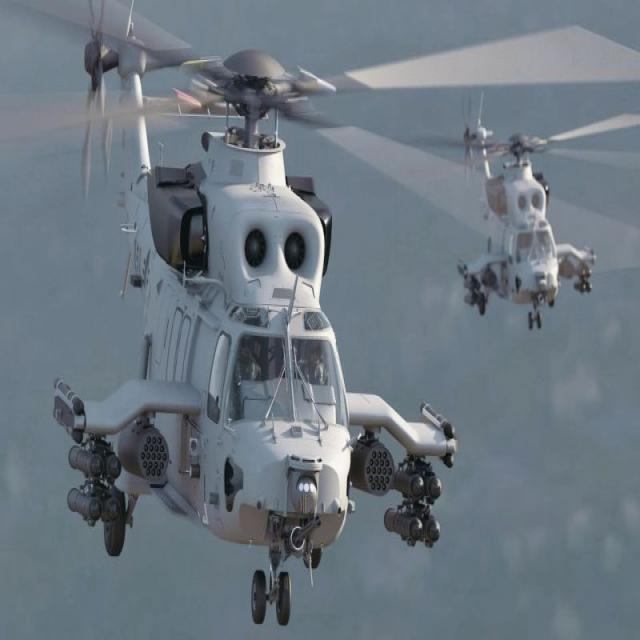plane: (0, 0, 640, 635), (409, 97, 640, 340)
